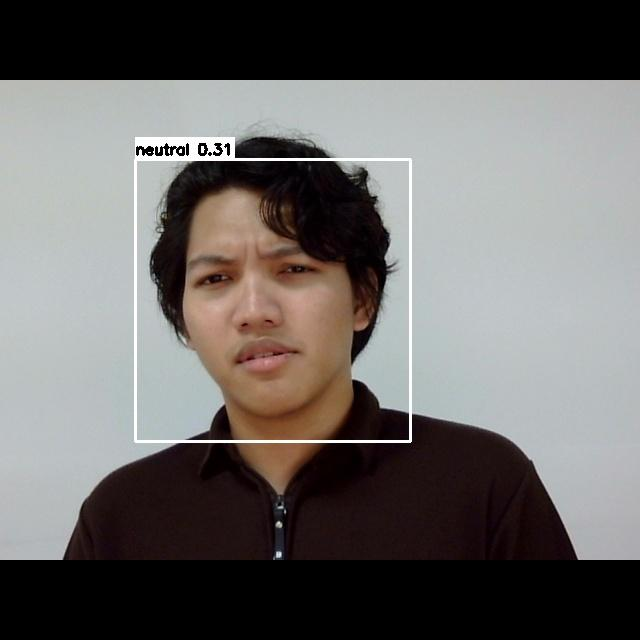Fear: (164, 227, 369, 395)
